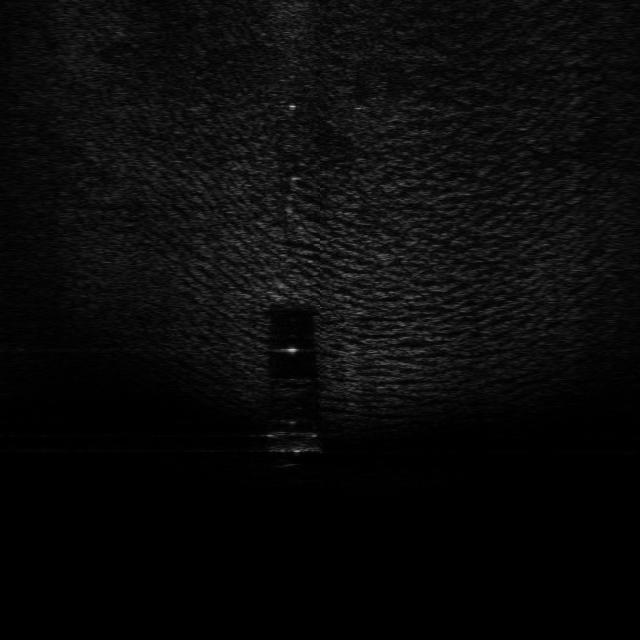cube: (263, 428, 321, 456)
